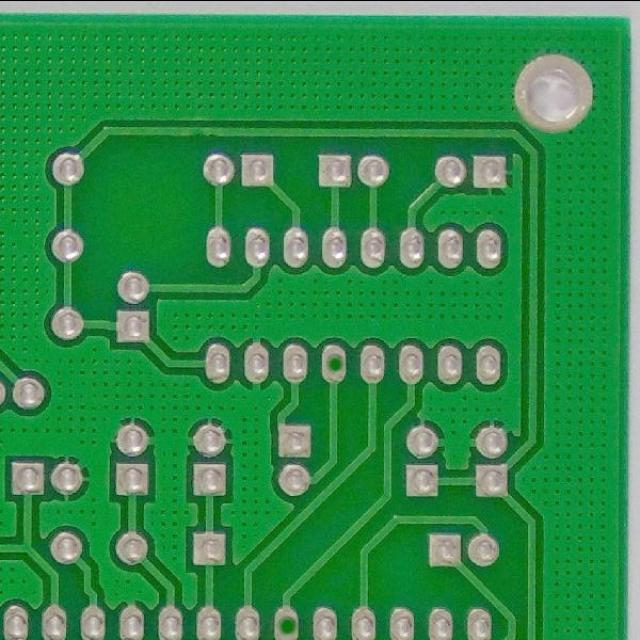Missing_Hole: (317, 341, 352, 385), (269, 603, 304, 640)
